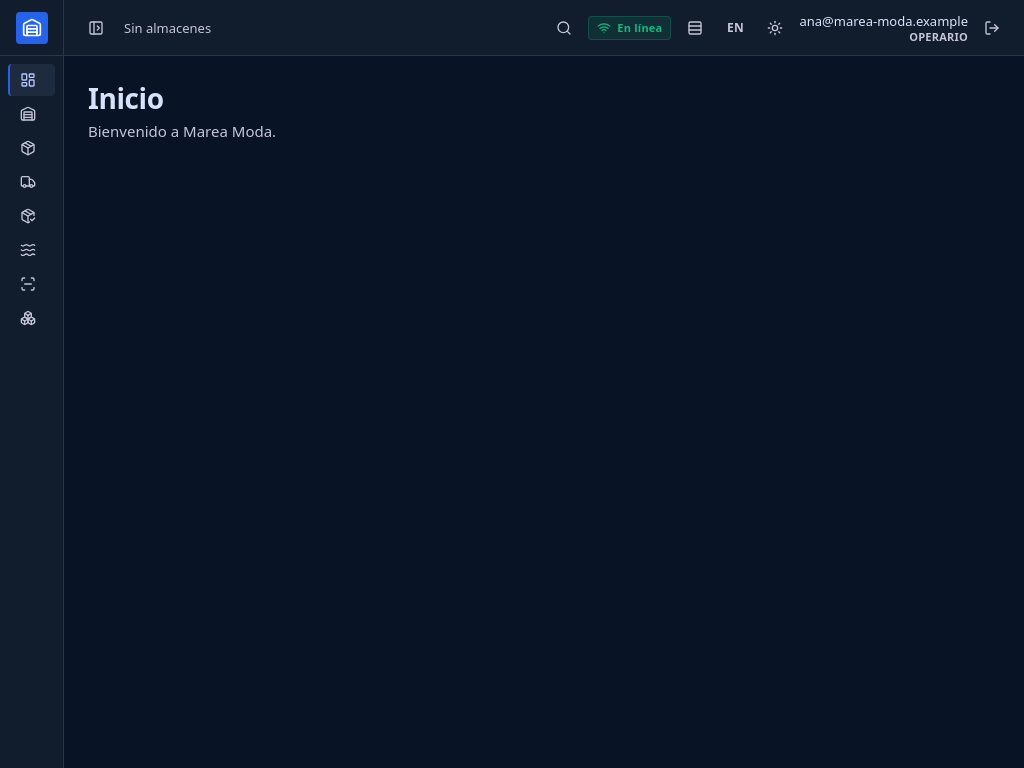
Test: the app shell › switches the theme from the top bar and keeps the choice
What coordinates should you click on to do the following:
click the button named "Cambiar al tema claro"
I would click on:
 (776, 28)
Its box is [760, 12, 792, 44].
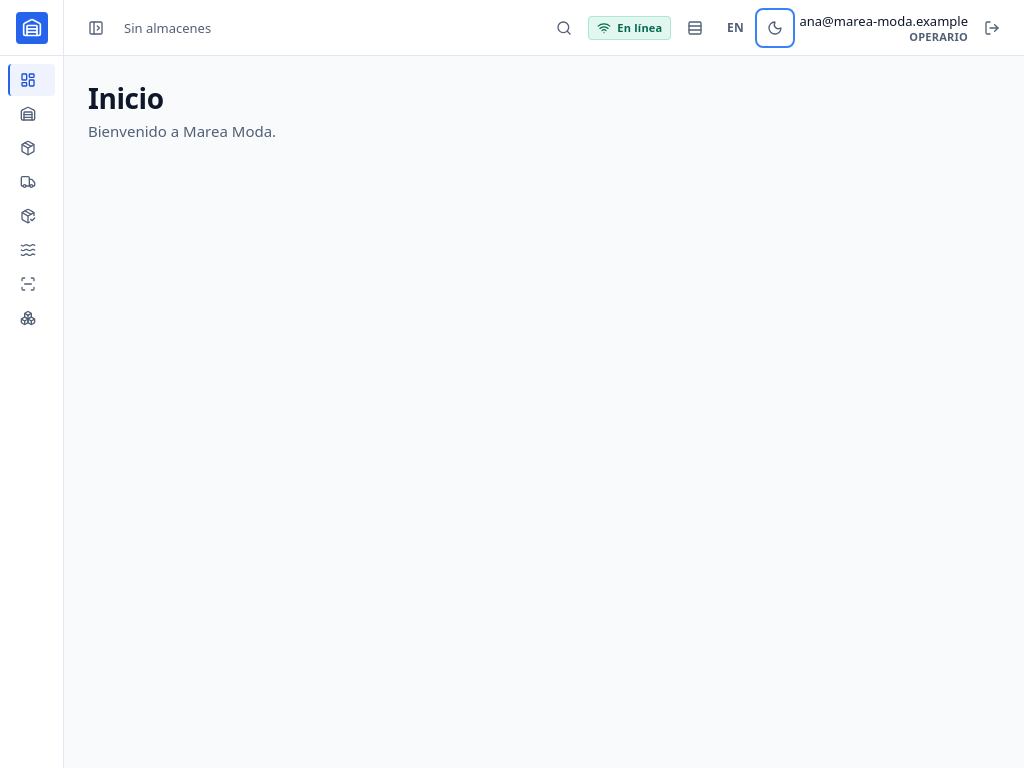
Check: the button named "Cambiar al tema oscuro" is shown, box [760, 12, 792, 44]
